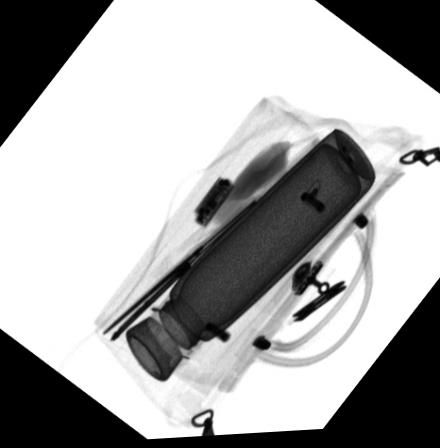Knife: (109, 202, 255, 342)
Scissors: (102, 201, 256, 337)
